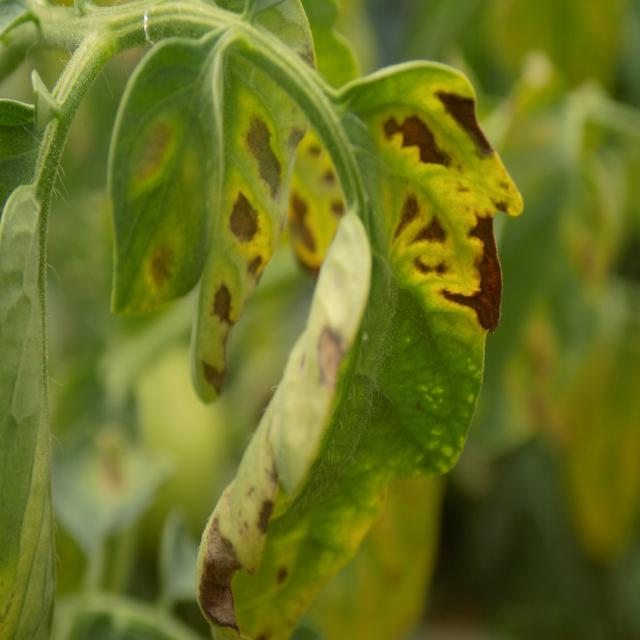tomato_early blight: (104, 7, 524, 640), (108, 0, 319, 409)
